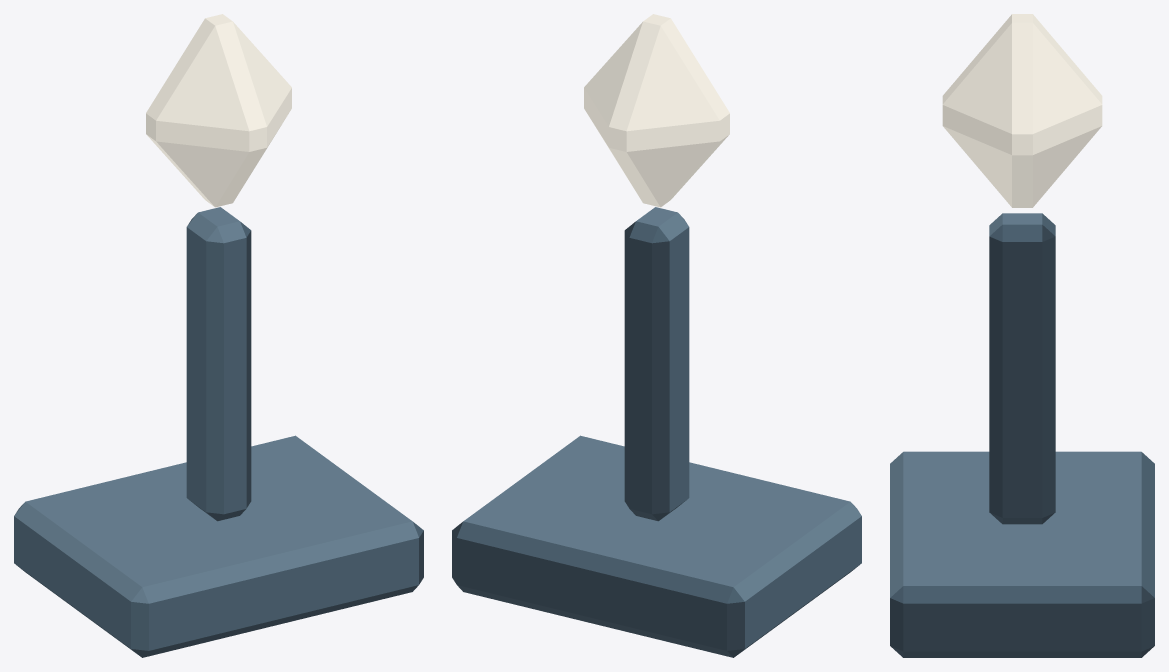
Rendered from Checkpoint_Active.gltf.
3 renders of one model, left to right at view 1: azimuth 30°, elevation 25°; view 2: azimuth 150°, elevation 25°; view 3: azimuth 270°, elevation 25°, orthographic.
Parts seen in each view (by area): view 1: Checkpoint_Active_baked; view 2: Checkpoint_Active_baked; view 3: Checkpoint_Active_baked.
Boxes of the visible parts, bbox=[...] form: Checkpoint_Active_baked: bbox=[14, 14, 423, 657]; Checkpoint_Active_baked: bbox=[452, 14, 861, 657]; Checkpoint_Active_baked: bbox=[890, 14, 1154, 657].
Size of the model in its own units: 0.52 by 0.9542 by 0.4.
